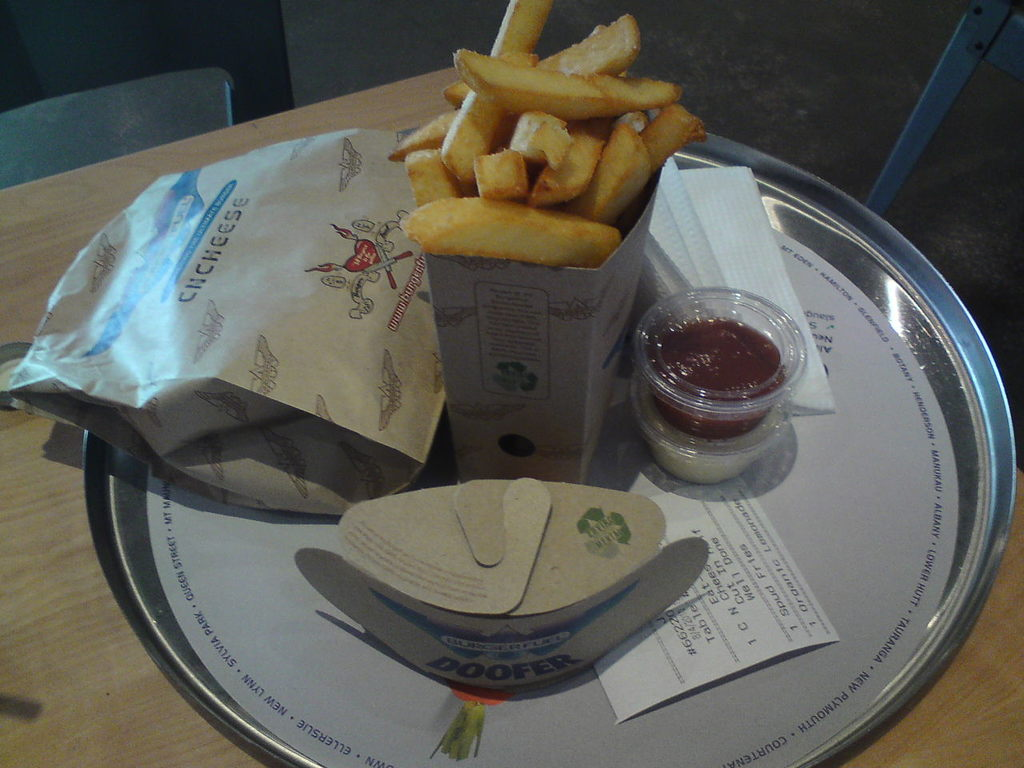French fries: (384, 0, 705, 228)
